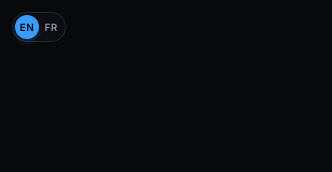
Scenario: LanguageToggle › T34 — le clic mémorise la langue, et le curseur part sans attendre la réponse
Click the button with aria-label "FR Français" at (51, 27), box x1=39 y1=15 x2=63 y2=39
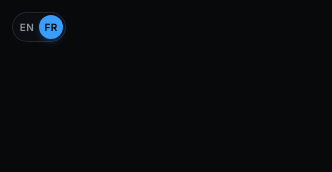
Now the button with aria-label "FR Français" is pressed, box x1=39 y1=15 x2=63 y2=39
Now the element showing "EN FR" has attribute aria-busy="true", box x1=12 y1=12 x2=66 y2=42
